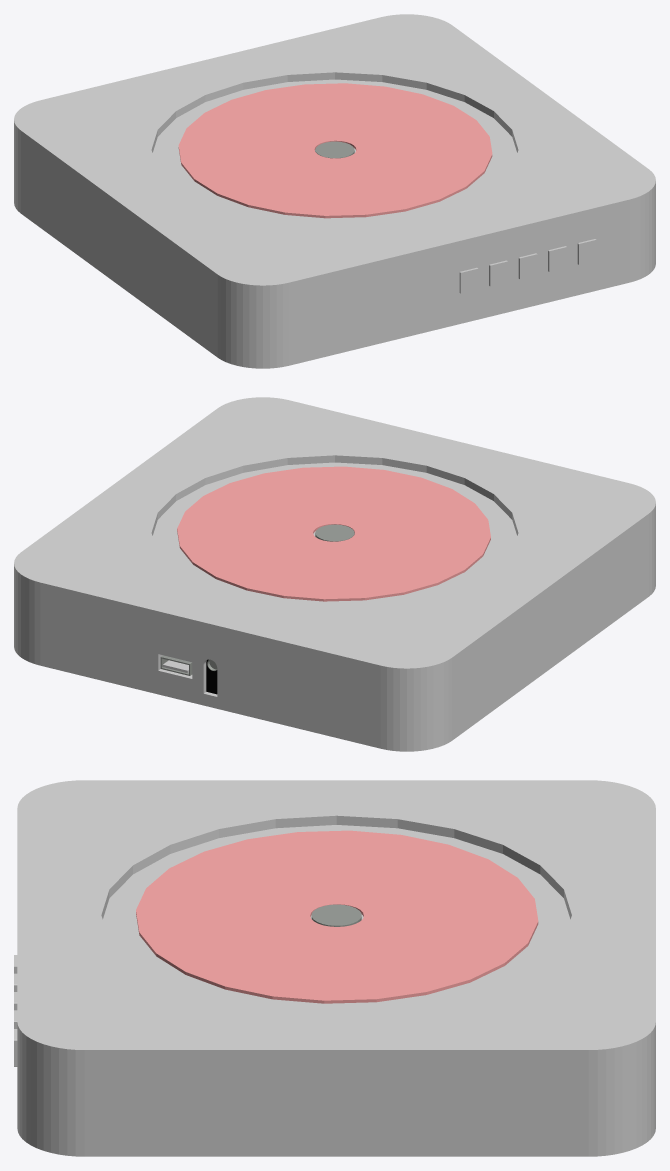
File: wall-mounted-player.fbx
3 views of the same model, one above another, from view 1: azimuth 30°, elevation 25°; view 2: azimuth 150°, elevation 25°; view 3: azimuth 270°, elevation 25° (orthographic). The views are drawn at different scales.
Visible parts, largest first — view 1: CD-Player, CD; view 2: CD-Player, CD; view 3: CD-Player, CD.
Boxes of the visible parts, box(x1,y1,x2,y2) form: CD-Player: box(14, 14, 655, 368); CD: box(178, 83, 492, 218); CD-Player: box(14, 397, 655, 751); CD: box(177, 466, 490, 601); CD-Player: box(14, 780, 655, 1156); CD: box(136, 830, 538, 1003).
Size of the model in its own units: 1173 by 216 by 1179.
